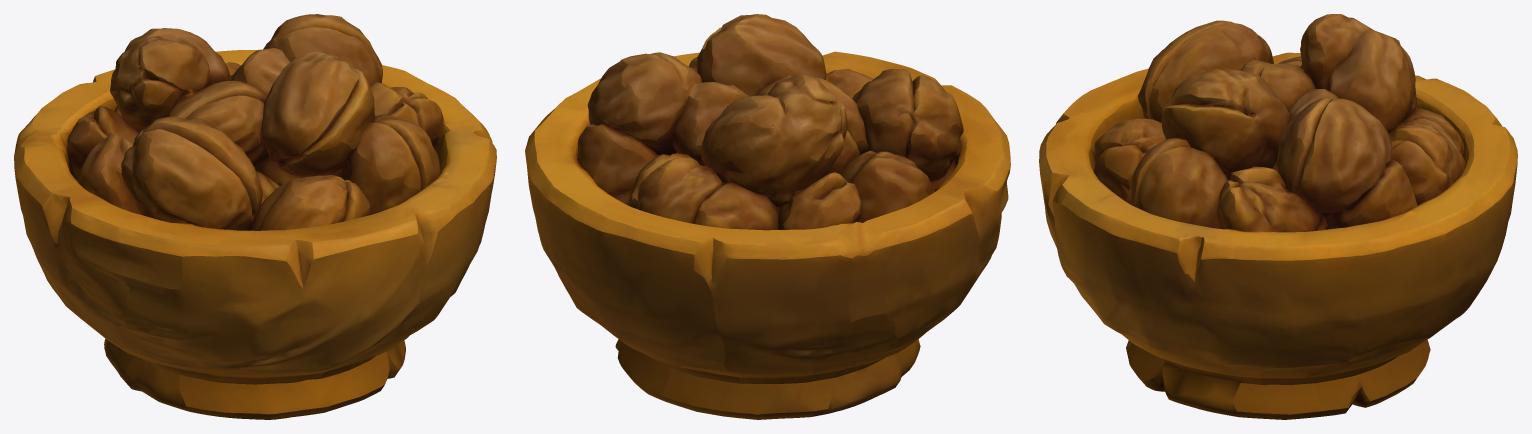
Rendered from kola_bowl.glb.
3 views of the same model, side by side, from view 1: azimuth 30°, elevation 25°; view 2: azimuth 150°, elevation 25°; view 3: azimuth 270°, elevation 25° (orthographic).
Parts seen in each view (by area): view 1: geometry_0; view 2: geometry_0; view 3: geometry_0.
Boxes of the visible parts, <box> form: geometry_0: <box>14,14,496,419</box>; geometry_0: <box>525,14,1010,419</box>; geometry_0: <box>1039,14,1517,419</box>.
Size of the model in its own units: 0.18 by 0.1301 by 0.18.
1 material, 1 textured.
